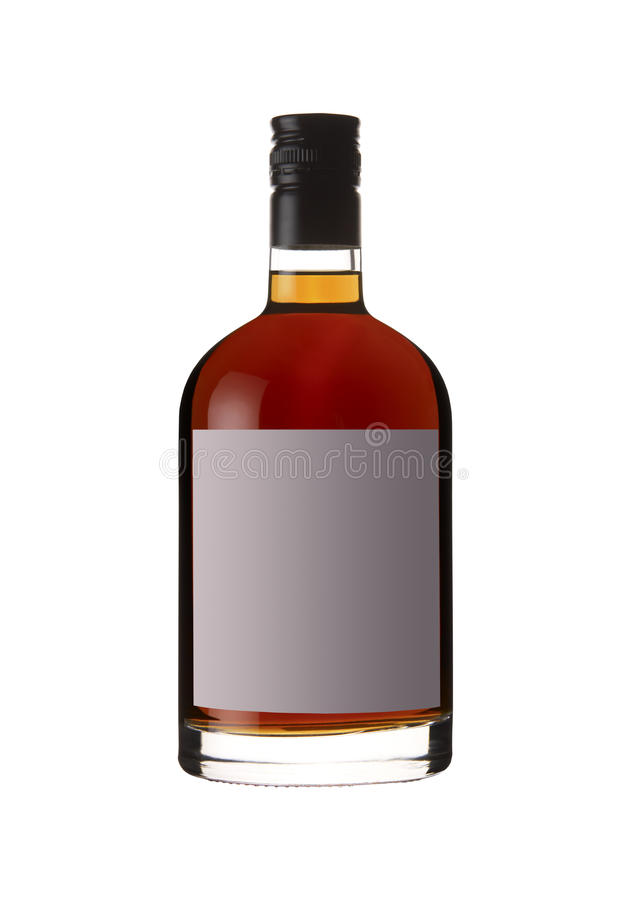bottle: (167, 105, 462, 792)
